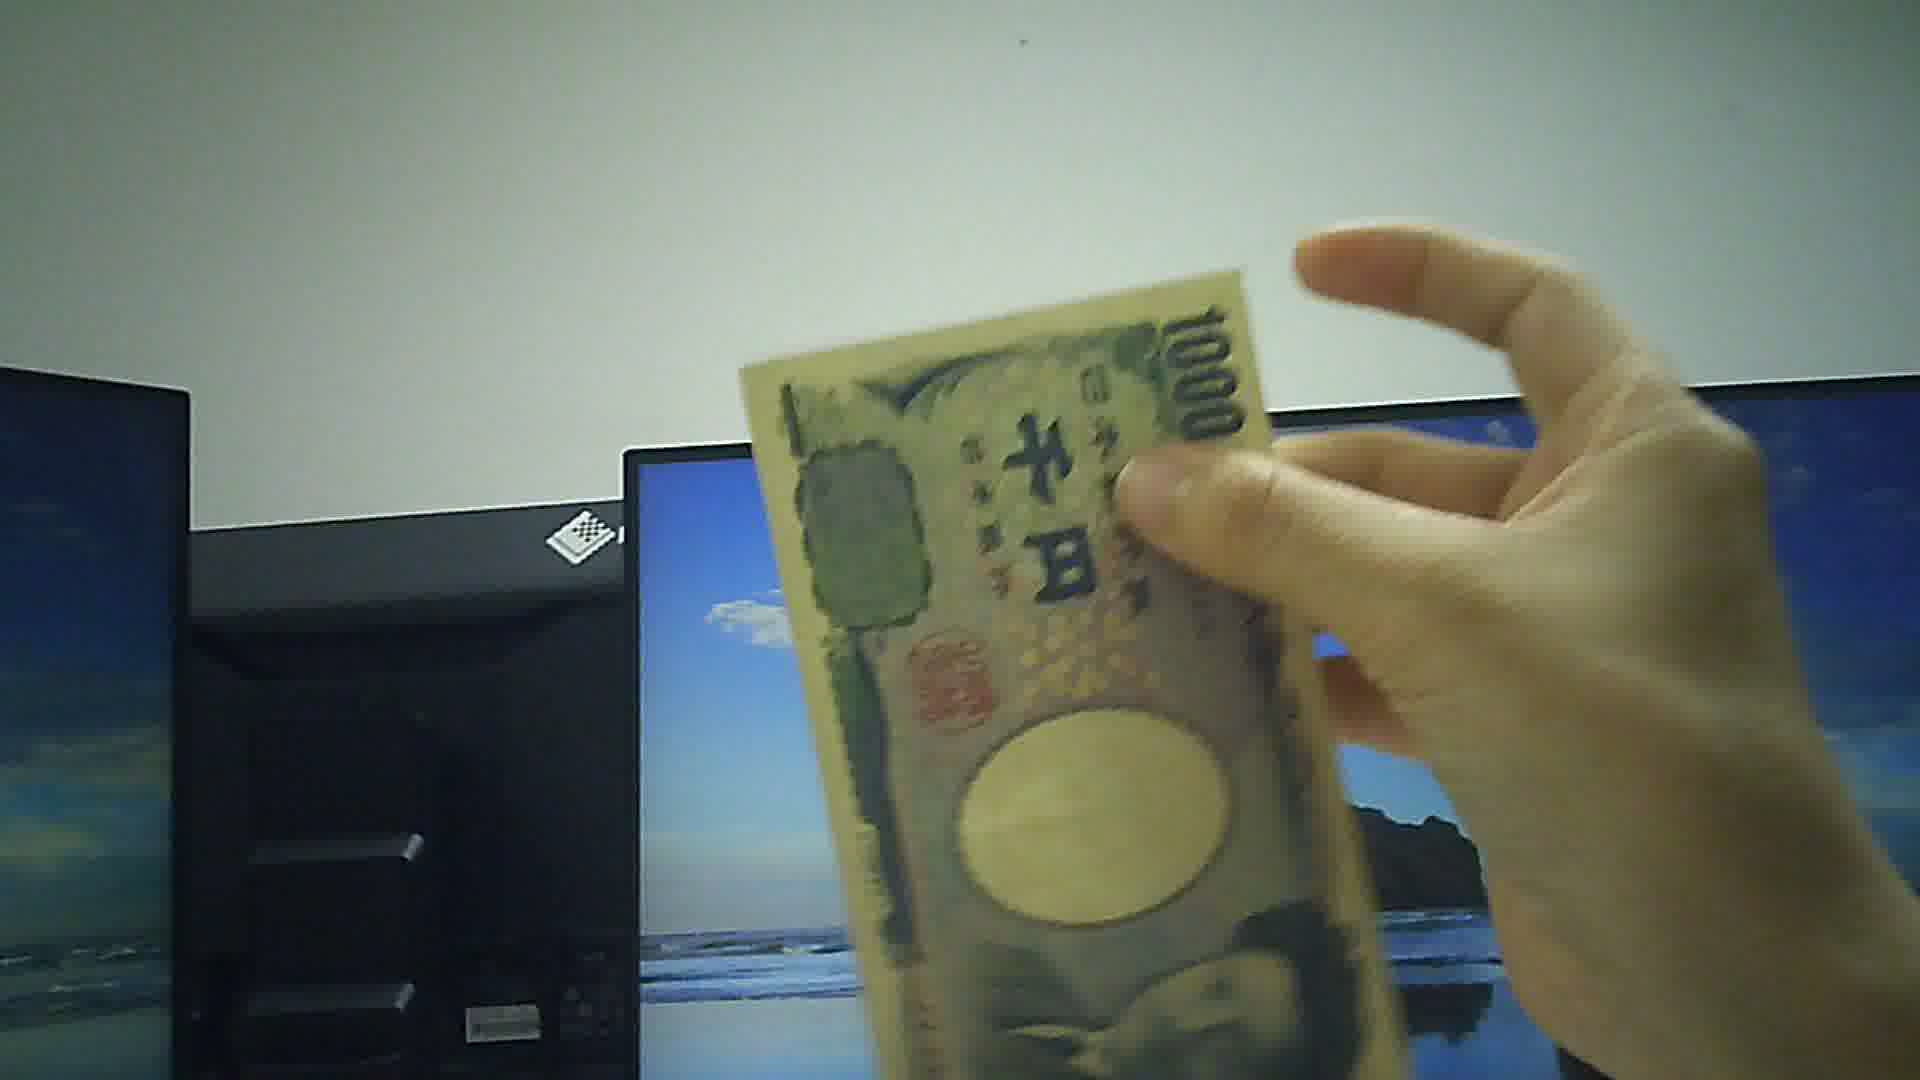1,000 Yen: (742, 287, 1399, 1079)
